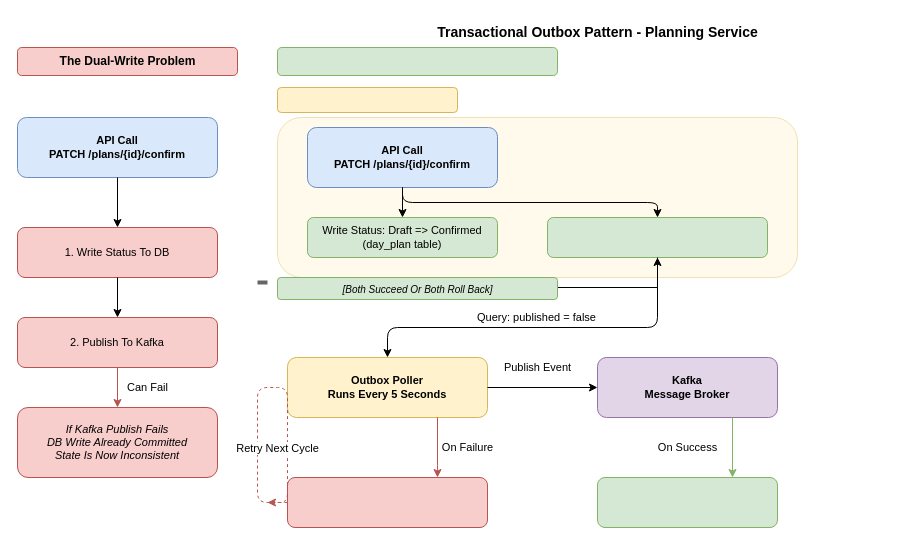
Image size: 915x545. Some labels were removed from this diagram. Each missing label, with the centre of its shape:
"Mark Row: published = true Event Delivered" goes at point 687,502.
"Row Stays: published = false Retried On Next Poll Cycle" goes at point 387,502.
"Single DB Transaction" goes at point 367,99.
"The Solution — Transactional Outbox" goes at point 417,61.
"Write plan.confirmed Event (outbox table, published=false)" goes at point 657,237.
